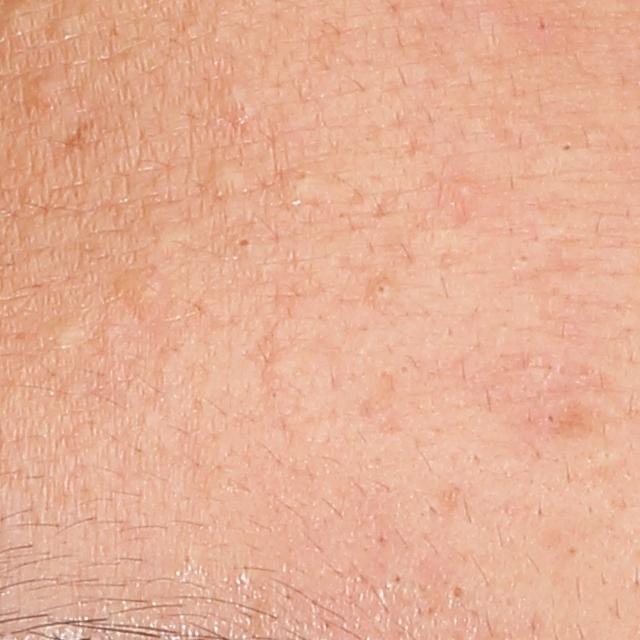comedo: (20, 69, 65, 113), (209, 158, 254, 195), (39, 317, 91, 348), (286, 163, 322, 202), (215, 80, 249, 116), (233, 231, 256, 259), (369, 279, 391, 301), (448, 582, 469, 605), (457, 181, 474, 199), (560, 140, 574, 154)
